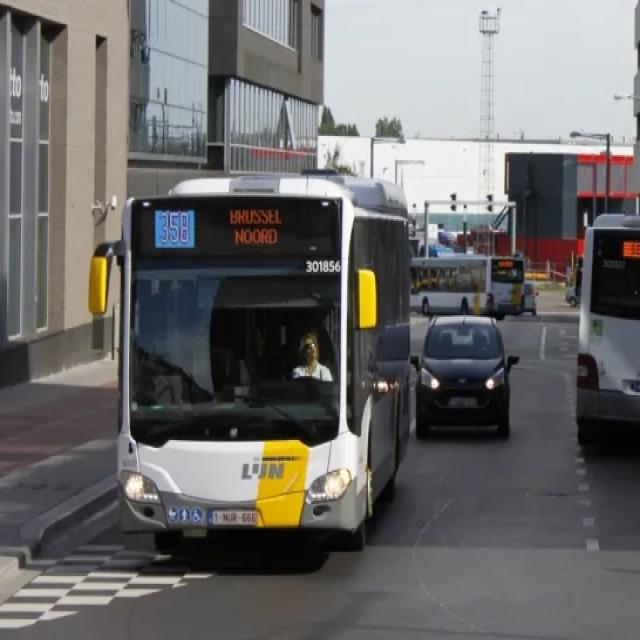bus-number: (155, 211, 195, 248)
